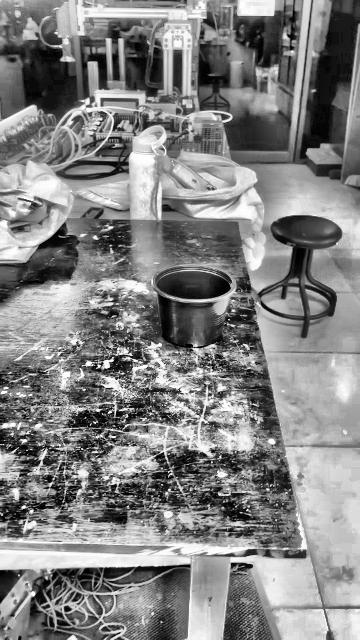pot: (152, 266, 233, 347)
